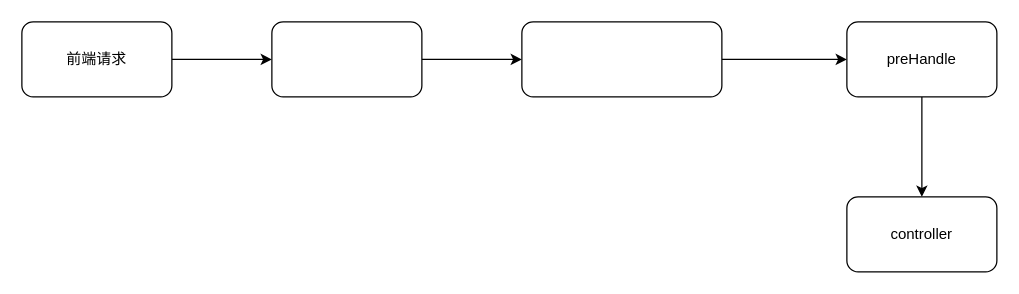
The diagram is 1019 pixels wide and 294 high, and some of its shapes have lost their labels. Each missing label, with the centre of its shape:
"dis" goes at point 621,59.
"过滤器" goes at point 346,59.
